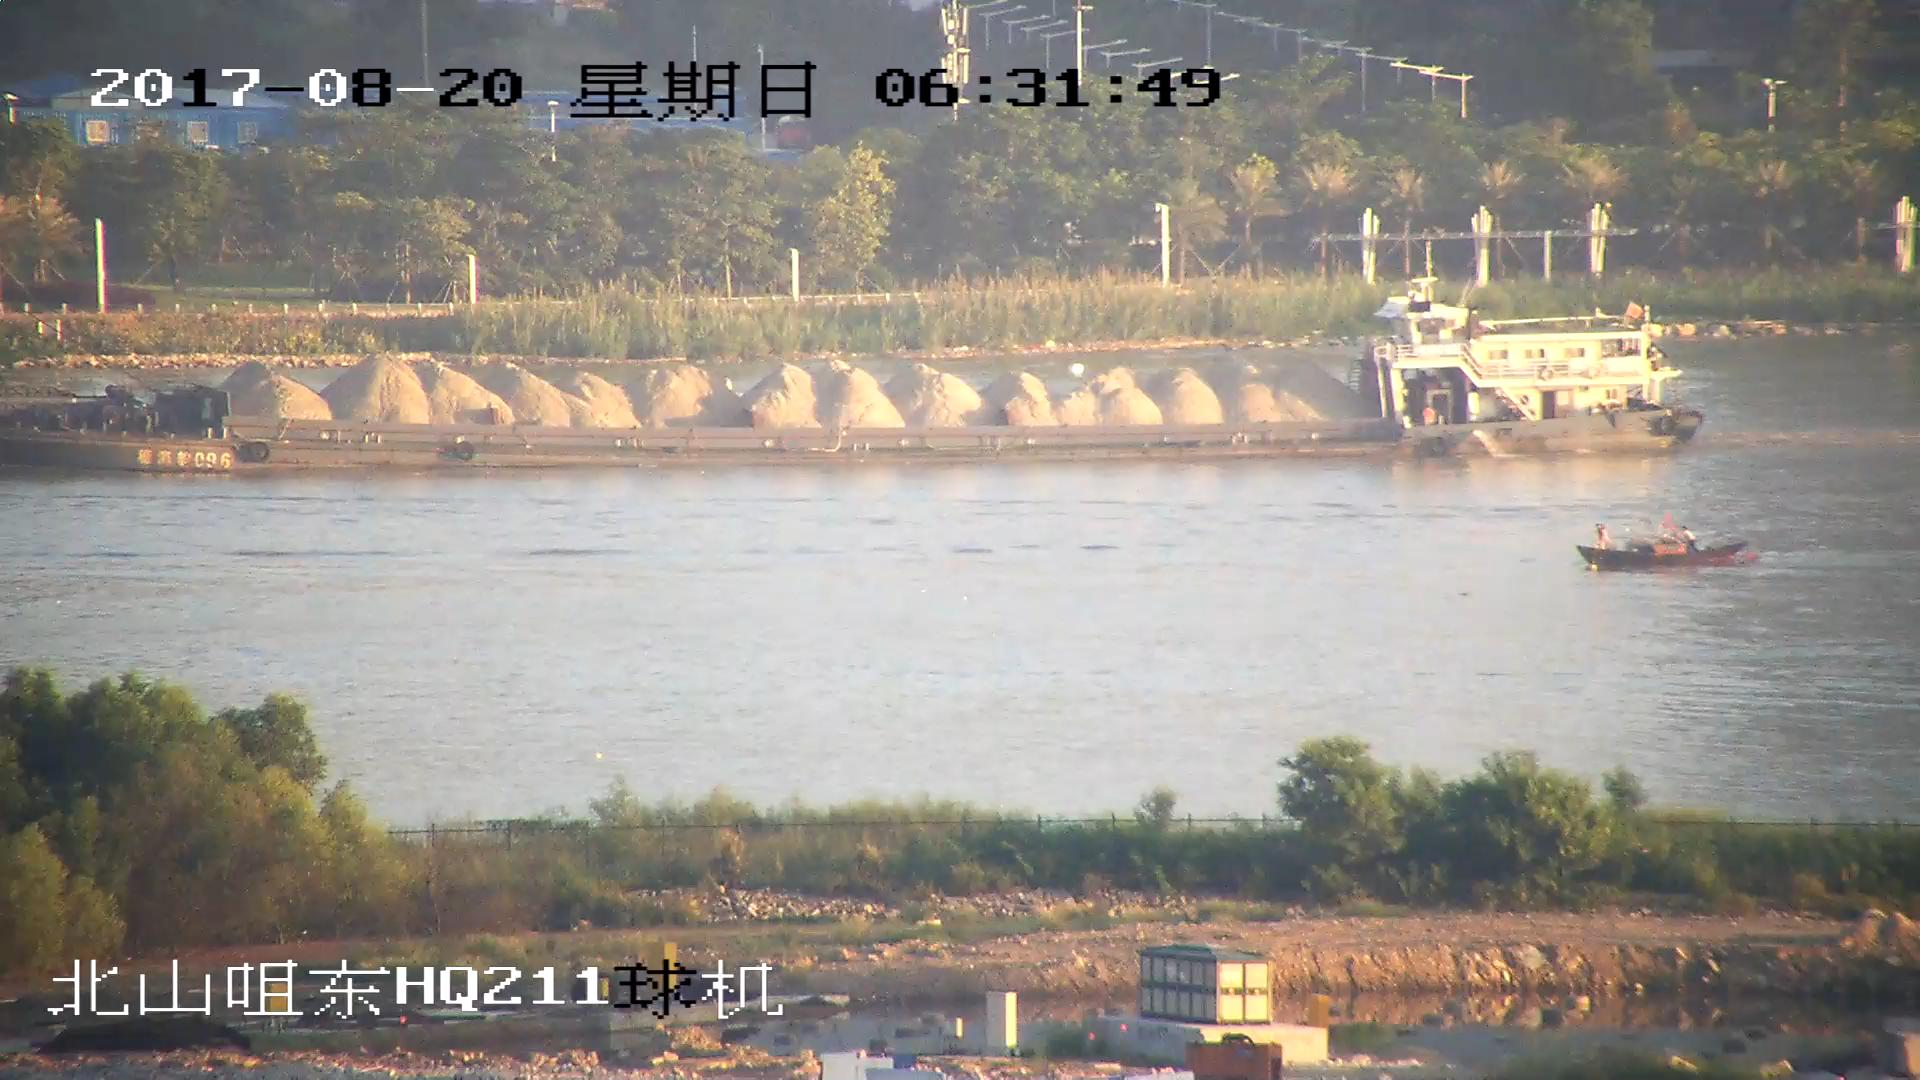fishing boat: (1574, 502, 1764, 575)
ore carrier: (1, 249, 1702, 470)
